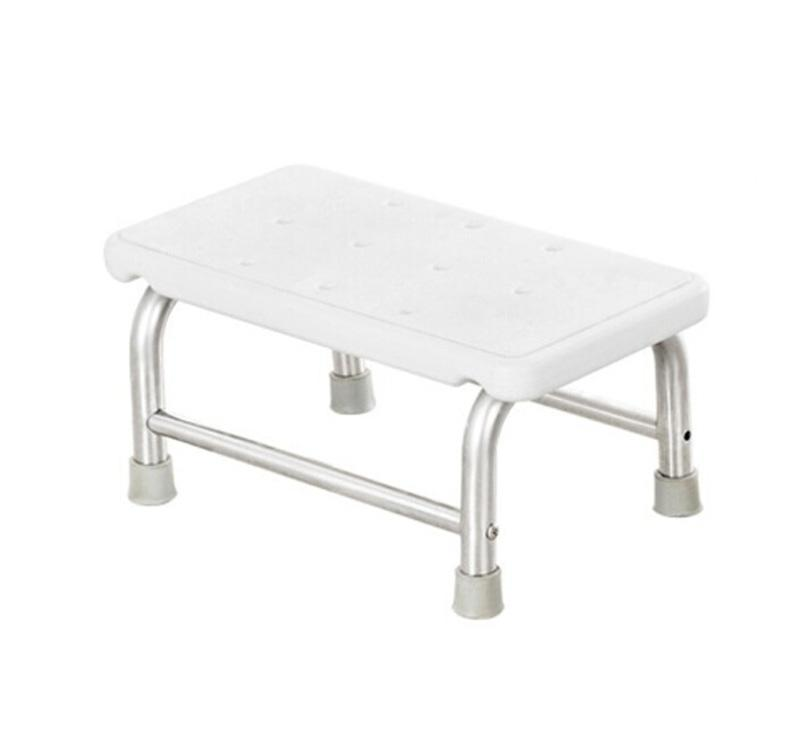stool: (90, 146, 777, 633)
